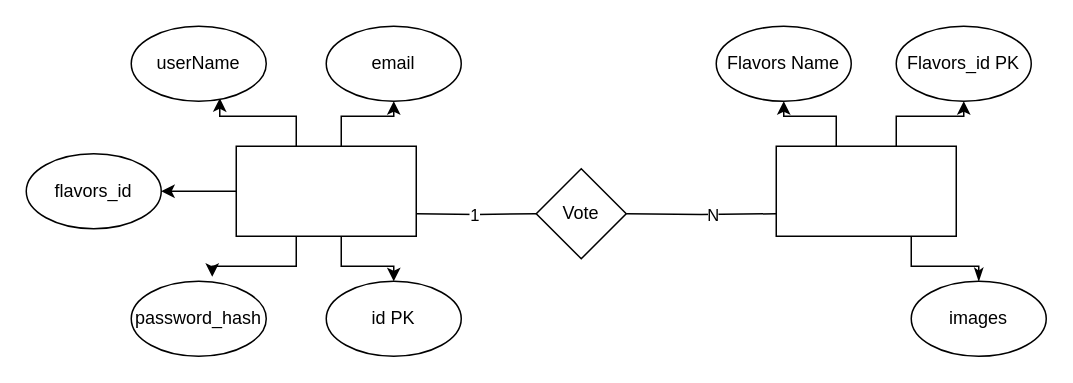
Image size: 1073x383. Some labels were removed from this diagram. The box of each missing label's shape, as (x1, y1, x2, y2) in pixels:
Ice Cream Flavors: (775, 145, 956, 236)
Users: (235, 145, 416, 236)
